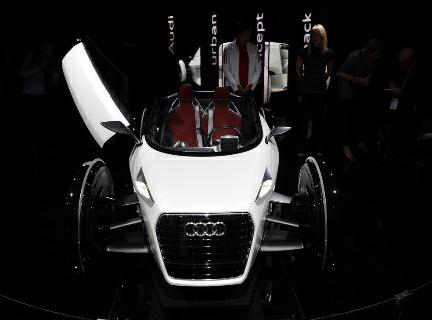奥迪-Urban: (58, 10, 345, 295)
